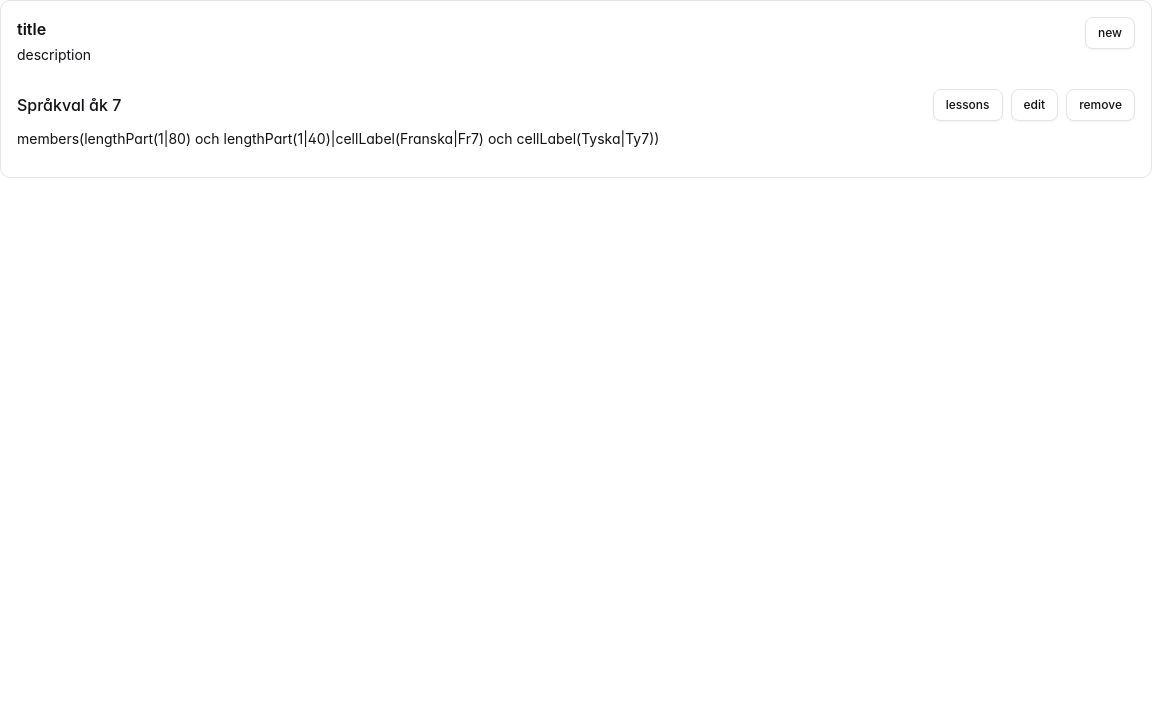
Test: BlocksHost › Ändra lektioner › says the staffing policy's warnings and refusal after the post each is about
This screenshot has width=1152, height=720.
Click the button with aria-label "lessonsNamed(Språkval åk 7)". click: x=968, y=105
box: [933,89,1002,121]
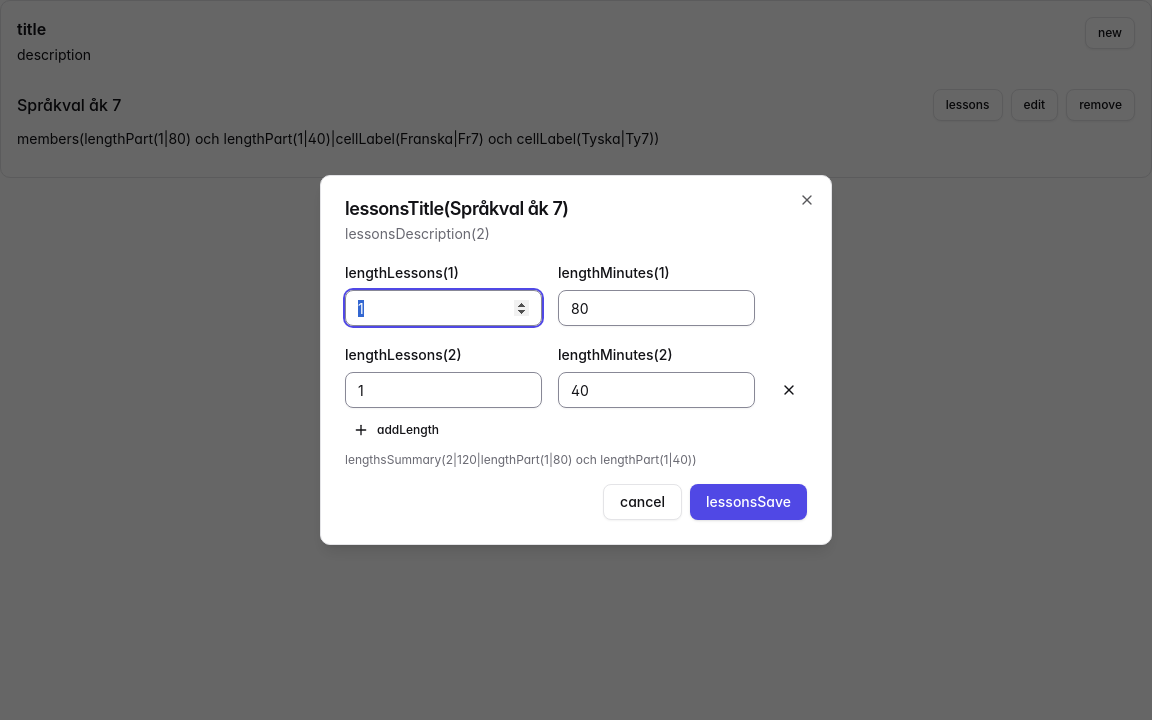
Click the button "lessonsSave". click: x=748, y=502
box: [690,484,807,520]
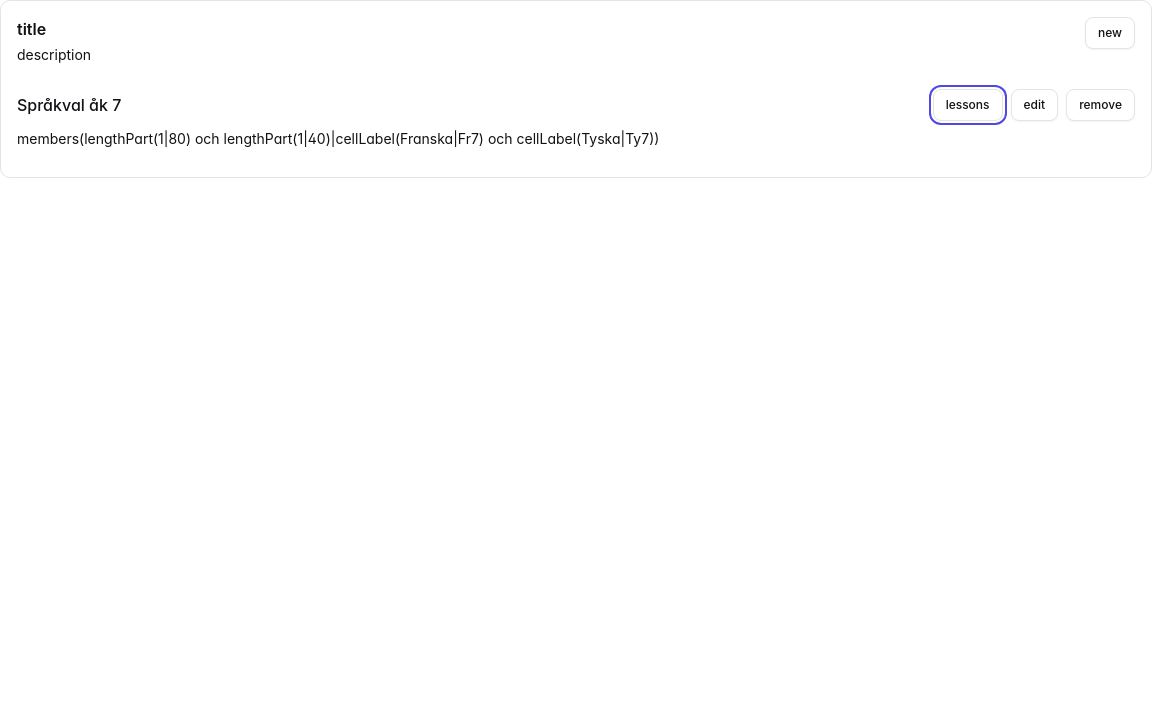
Click the button with aria-label "lessonsNamed(Språkval åk 7)". click: x=968, y=105
box: [933,89,1002,121]
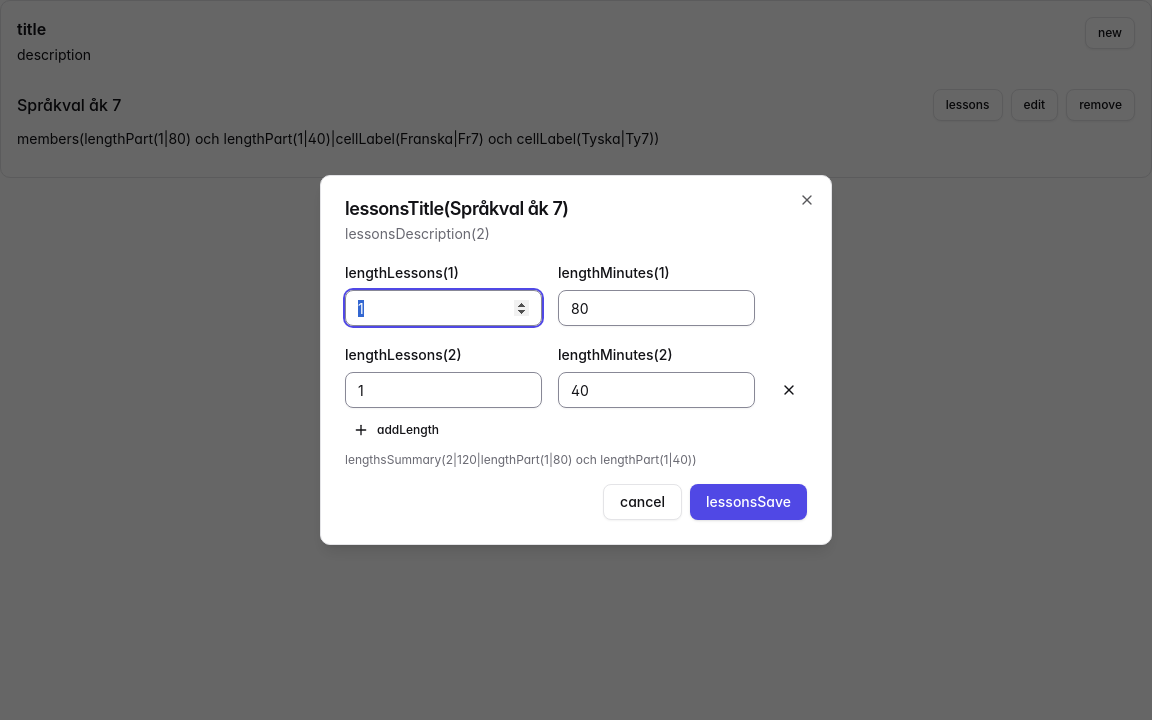
Click the button "lessonsSave". click: x=748, y=502
box: [690,484,807,520]
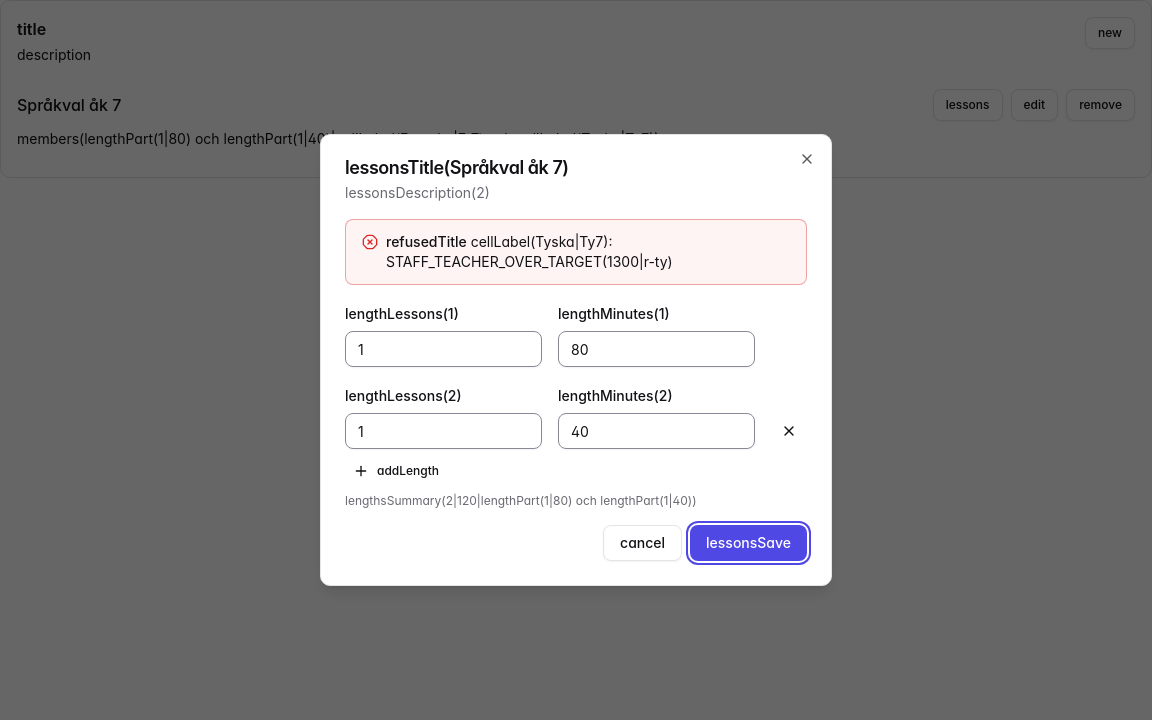
Expected: the dialog shows "refusedTitle cellLabel(Tyska|Ty7): STAFF_TEACHER_OVER_TARGET(1300|r-ty)", [320,134,832,586]
